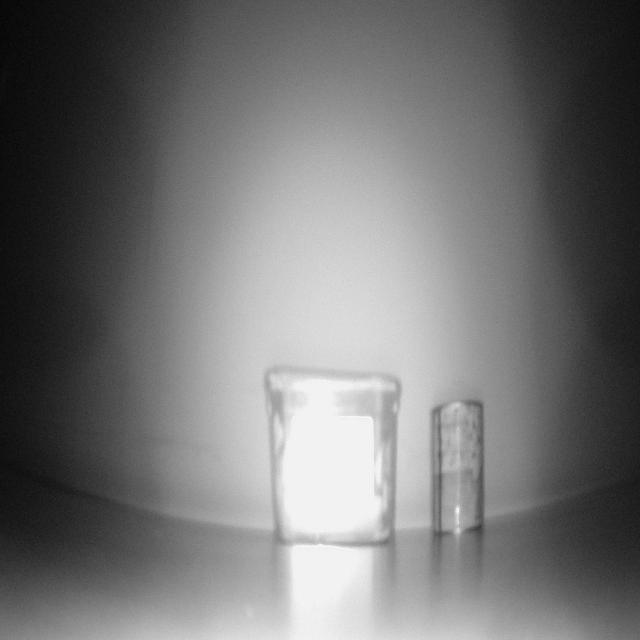targets: (269, 374, 401, 546), (434, 399, 483, 534)
